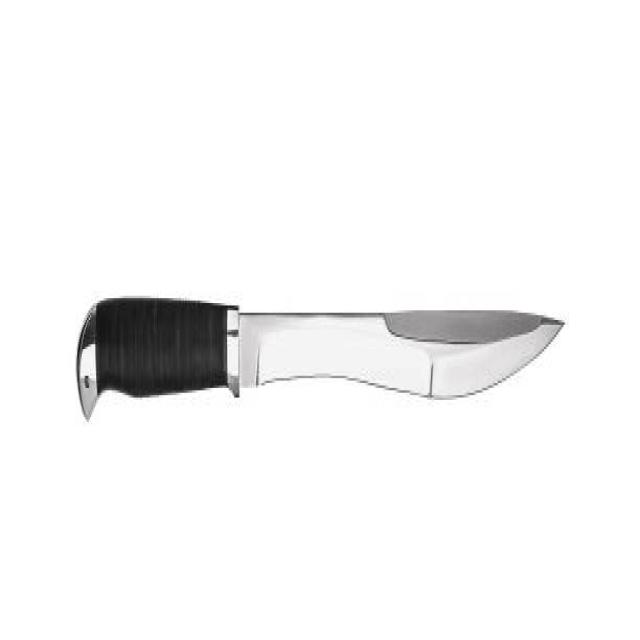knife: (72, 259, 568, 437)
